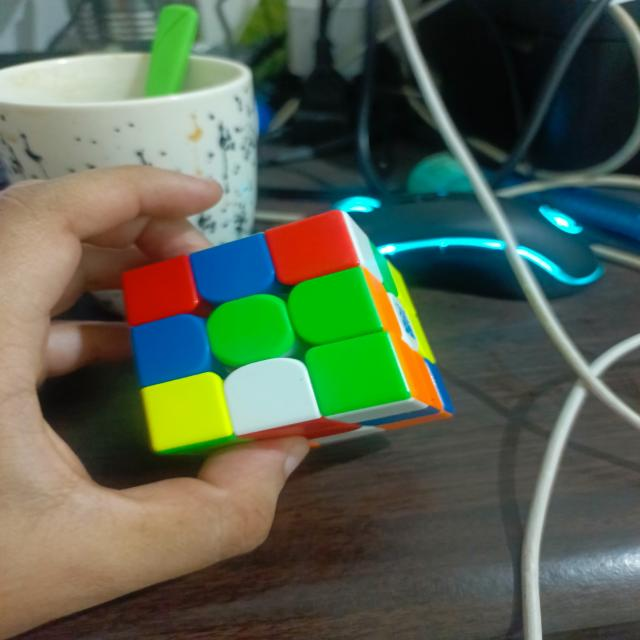rubik: (119, 208, 456, 456)
